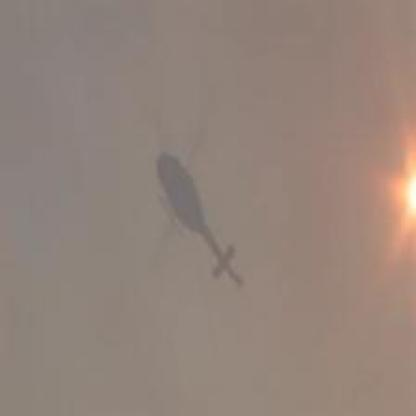other: (367, 121, 412, 260)
